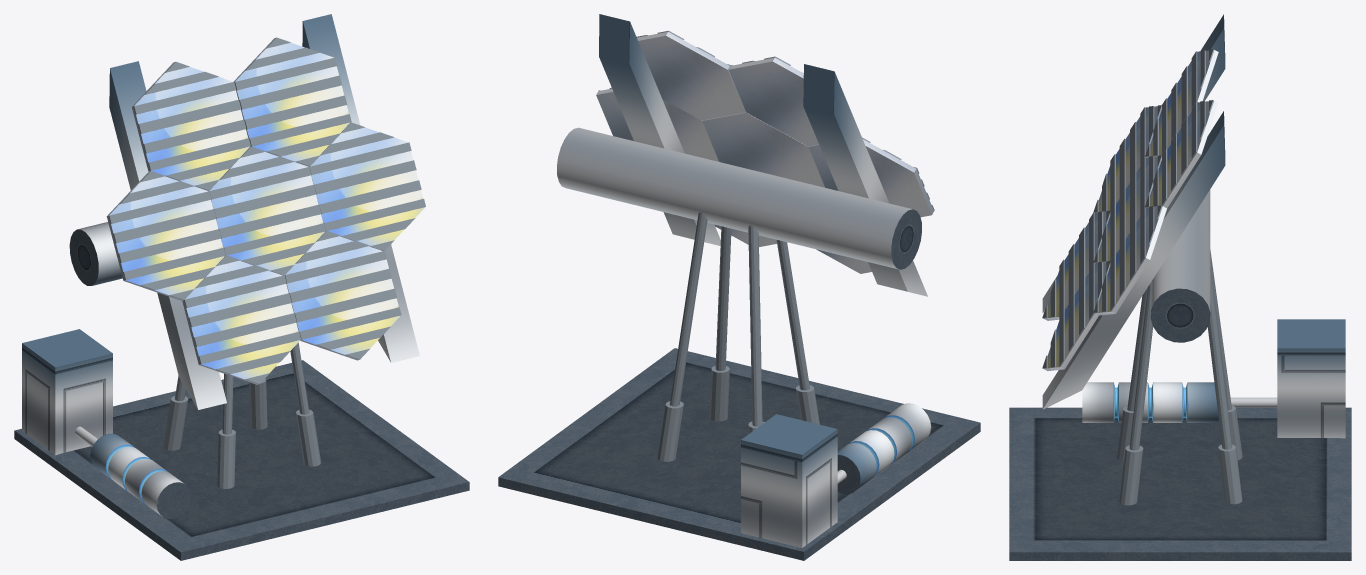
Rendered from Solar Panel.fbx.
3 views of the same model, side by side, from view 1: azimuth 30°, elevation 25°; view 2: azimuth 150°, elevation 25°; view 3: azimuth 270°, elevation 25° (orthographic). The views are drawn at different scales.
Parts seen in each view (by area): view 1: Panel (×7), Hexagon (×7), Base, Storage, Handle_2, Tank, Handle_3, Rotater, Pillar_4, Pillar_3, Pillar_2, Pillar_1; view 2: Base, Rotater, Panel (×5), Storage, Handle_2, Handle_3, Tank, Pillar_1, Pillar_4, Pillar_3, Pillar_2; view 3: Base, Hexagon (×7), Panel (×7), Storage, Handle_3, Rotater, Tank, Pillar_1, Pillar_4, Pillar_3, Pillar_2, Handle_2 (+1 smaller).
Part boxes in pixels (x1,y1,x2,y2): Panel (×7): (106,38,425,384); Hexagon (×7): (109,37,425,384); Base: (14,360,469,560); Storage: (22,329,112,455); Handle_2: (109,61,226,409); Tank: (90,433,191,519); Handle_3: (302,14,419,362); Rotater: (69,222,122,285); Pillar_4: (290,342,320,466); Pillar_3: (217,373,235,488); Pillar_2: (163,375,188,450); Pillar_1: (249,378,267,429); Base: (498,348,980,560); Rotater: (557,127,921,269); Panel (×5): (596,32,933,217); Storage: (741,414,837,547); Handle_2: (803,64,927,296); Handle_3: (599,14,720,245); Tank: (837,403,931,494); Pillar_1: (657,212,707,461); Pillar_4: (709,226,731,421); Pillar_3: (776,240,819,424); Pillar_2: (748,225,764,434); Base: (1009,407,1351,560); Hexagon (×7): (1042,49,1214,368); Panel (×7): (1044,50,1218,370); Storage: (1277,319,1345,438); Handle_3: (1042,111,1225,409); Rotater: (1150,189,1210,342); Tank: (1082,382,1218,422); Pillar_1: (1207,268,1242,504); Pillar_4: (1119,283,1152,505); Pillar_3: (1117,288,1147,461); Pillar_2: (1210,250,1242,460); Handle_2: (1042,14,1225,312).
Size of the model in its own units: 5.47 by 6.76 by 5.
